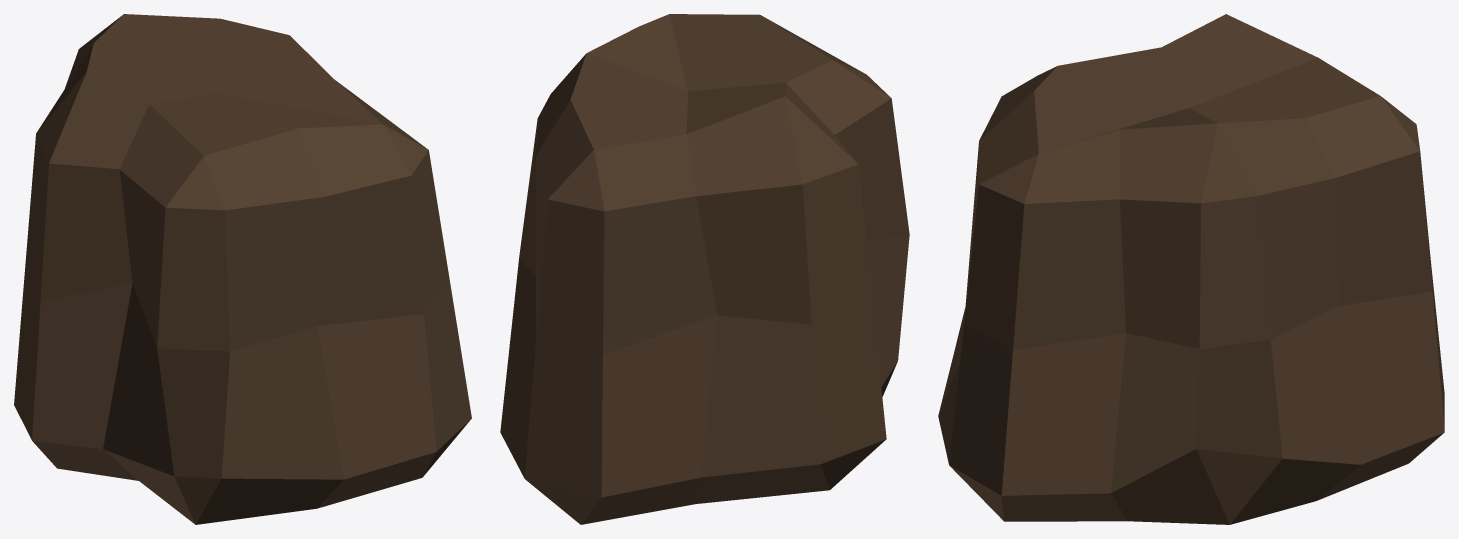
File: Rock_9_Dark_Brown.fbx
3 renders of one model, left to right at view 1: azimuth 30°, elevation 25°; view 2: azimuth 150°, elevation 25°; view 3: azimuth 270°, elevation 25°, orthographic. The views are drawn at different scales.
Visible parts, largest first — view 1: Rock_9_Dark_Brown; view 2: Rock_9_Dark_Brown; view 3: Rock_9_Dark_Brown.
Boxes of the visible parts, left/top/right/bottom form: Rock_9_Dark_Brown: left=14, top=14, right=471, bottom=524; Rock_9_Dark_Brown: left=500, top=14, right=909, bottom=524; Rock_9_Dark_Brown: left=938, top=14, right=1444, bottom=524.
Bounding box in the file's own units: 303 × 314 × 367.
